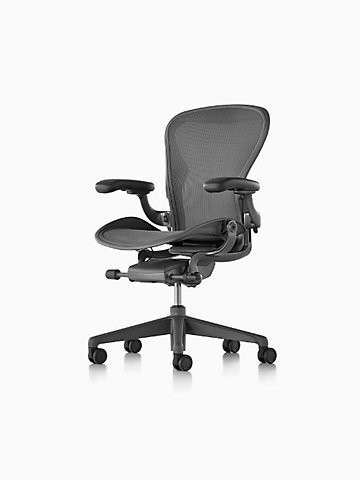chairs: (74, 102, 282, 376)
